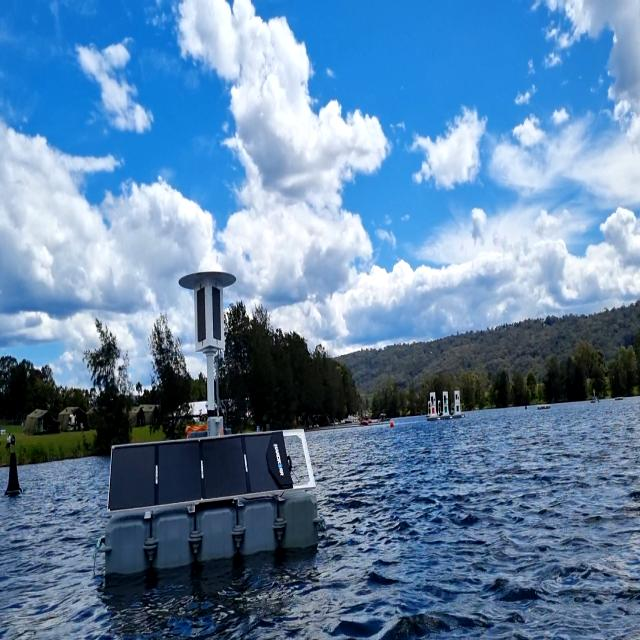led: (210, 282, 221, 344), (196, 288, 208, 344)
